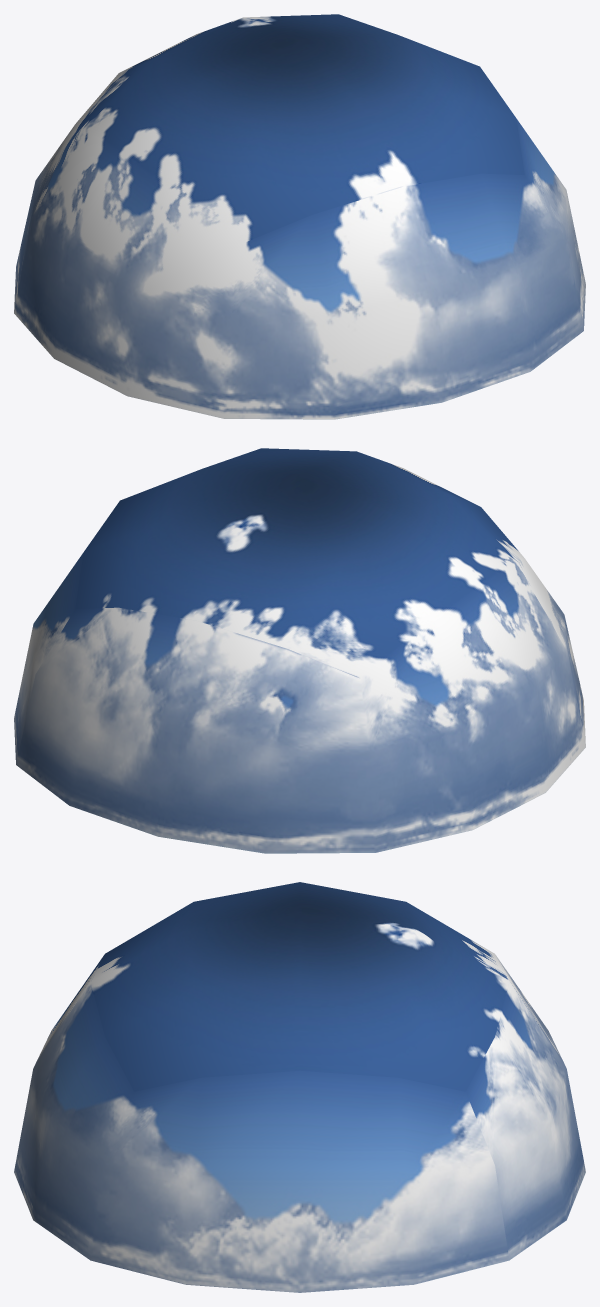
Rendered from skybox.obj.
3 views of the same model, one above another, from view 1: azimuth 30°, elevation 25°; view 2: azimuth 150°, elevation 25°; view 3: azimuth 270°, elevation 25° (orthographic).
Visible parts, largest first — view 1: Box001; view 2: Box001; view 3: Box001.
Part boxes in pixels (x1,y1,x2,y2): Box001: (14,14,585,419); Box001: (14,448,585,853); Box001: (14,882,585,1292).
Bounding box in the file's own units: 383 × 191 × 383.
